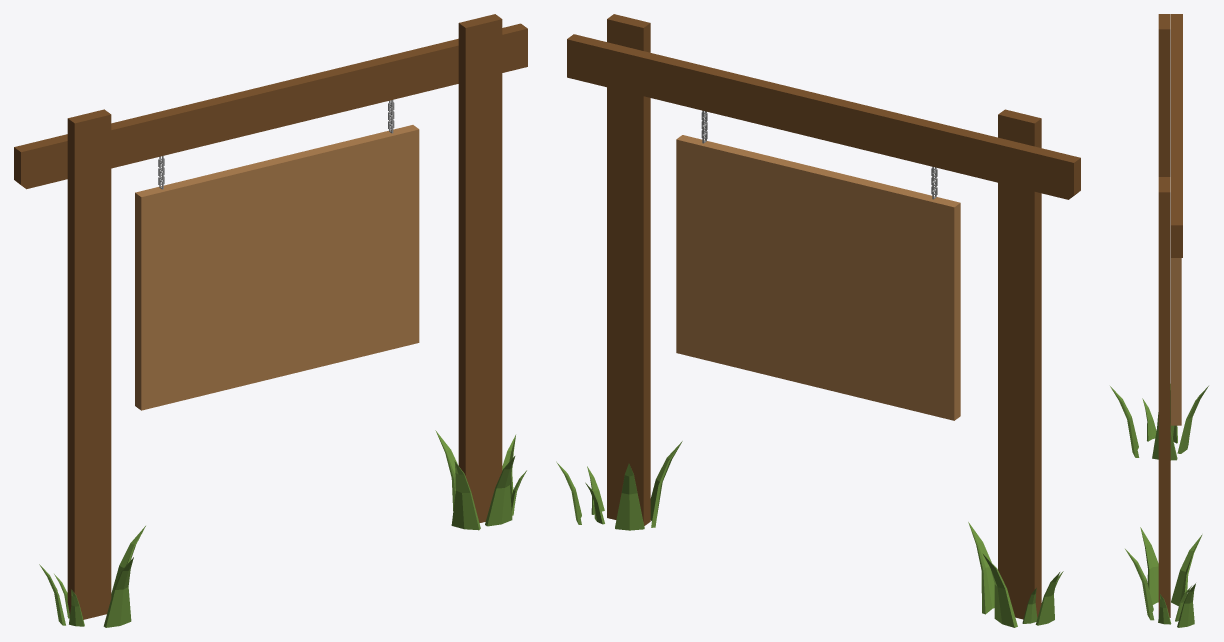
File: Wooden Sign-3MStJYAez7.glb
The picture shows the model from 3 angles, left to right: view 1: azimuth 30°, elevation 25°; view 2: azimuth 150°, elevation 25°; view 3: azimuth 270°, elevation 25°; orthographic projection. The views are drawn at different scales.
Parts seen in each view (by area): view 1: Sign4; view 2: Sign4; view 3: Sign4.
Boxes of the visible parts, box(x1,y1,x2,y2) form: Sign4: box(14, 14, 527, 627); Sign4: box(556, 14, 1080, 627); Sign4: box(1110, 14, 1208, 627).
Size of the model in its own units: 2.22 by 2.08 by 0.4436.
